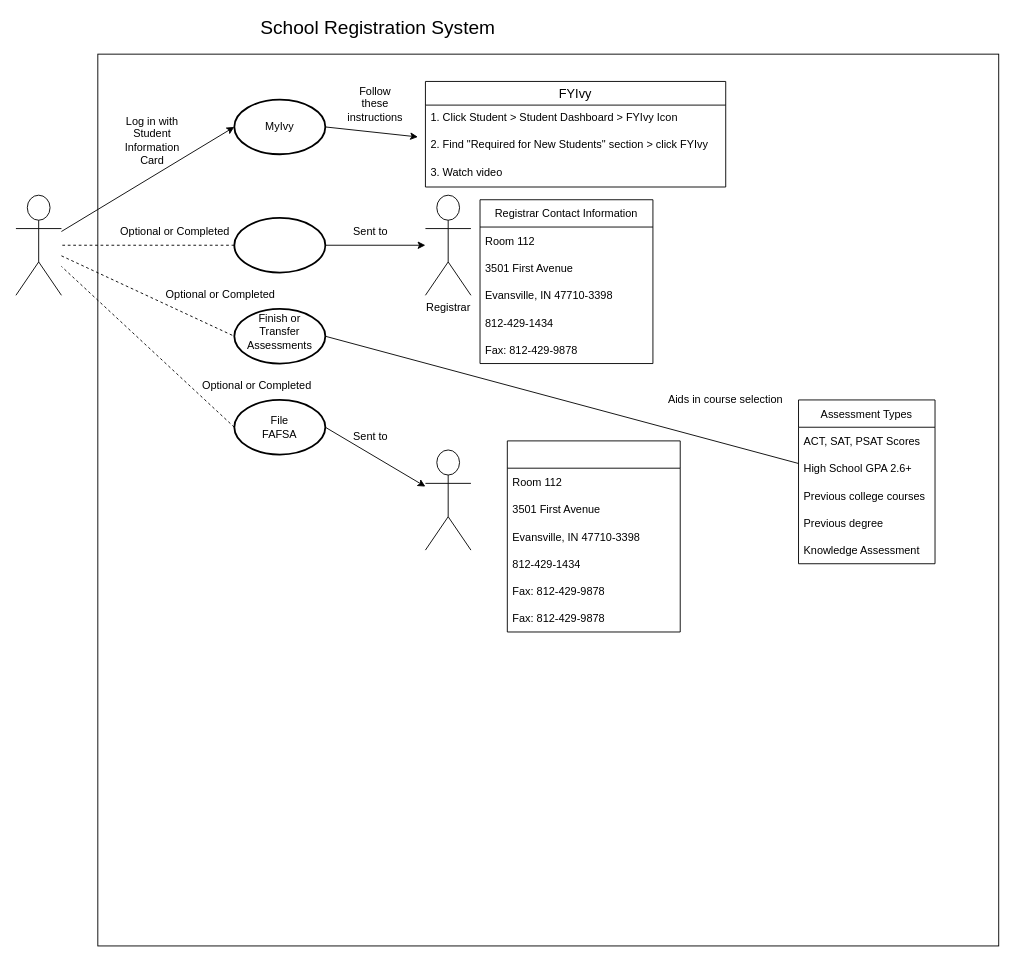
This 1015x962 diagram has some shape labels left out. Here are the shapes that lost their labels. From the top down, the box of each, then its label:
(15, 194, 61, 295): Student
(233, 217, 326, 273): Transfer Previous Courses
(425, 449, 471, 550): Office of Financial Aid
(506, 440, 680, 632): Financial Aid Contact Information
